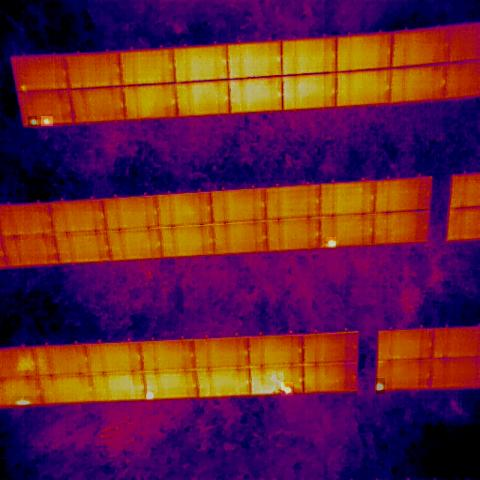fault: (12, 396, 31, 408), (281, 382, 293, 396), (376, 378, 385, 394), (144, 390, 156, 401), (41, 116, 53, 126), (326, 237, 336, 248), (28, 116, 37, 126), (20, 83, 28, 91)
